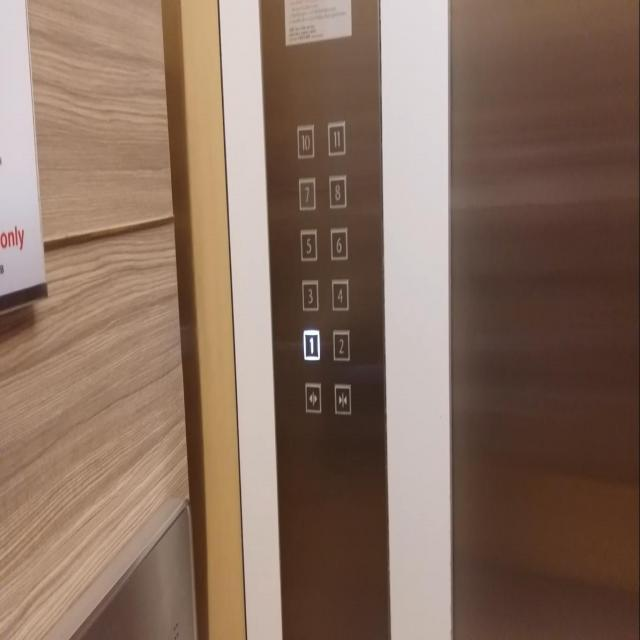1: (302, 327, 321, 362)
10: (296, 124, 314, 158)
11: (327, 121, 346, 157)
2: (332, 328, 351, 362)
3: (301, 278, 319, 312)
4: (331, 279, 349, 312)
5: (300, 228, 318, 262)
6: (330, 227, 348, 261)
7: (298, 177, 316, 211)
8: (328, 175, 347, 210)
close: (334, 382, 352, 416)
open: (304, 382, 322, 413)
